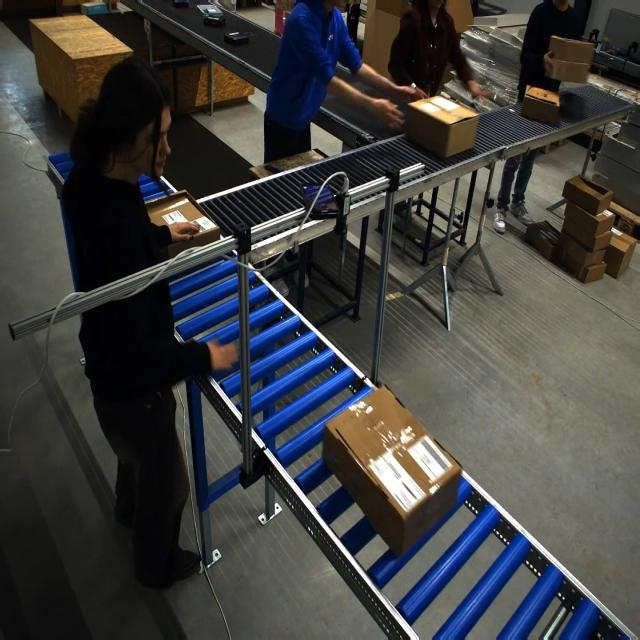box: (326, 400, 451, 552), (145, 189, 220, 260), (404, 95, 479, 158), (522, 84, 561, 125)
product: (223, 31, 251, 44), (197, 4, 222, 16), (203, 15, 226, 27), (172, 0, 189, 8)
